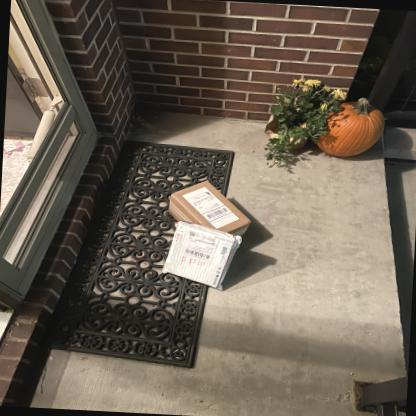box: (169, 180, 251, 235)
plastic_bag: (161, 220, 242, 292)
